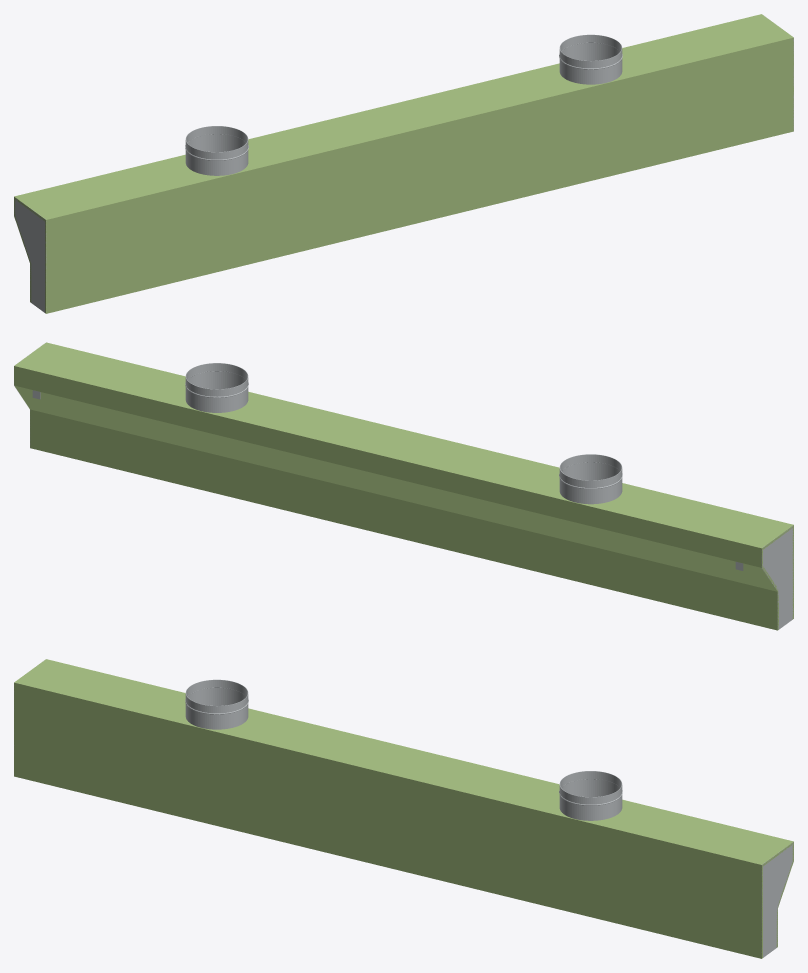
The model's file is edl-plenum-trapezoidale-2000-superiori.glb.
The picture shows the model from 3 angles, top to bottom: view 1: azimuth 30°, elevation 25°; view 2: azimuth 150°, elevation 25°; view 3: azimuth 330°, elevation 25°; orthographic projection.
Visible parts, largest first — view 1: Isolamento esterno, Stacco 2 Ø145, Stacco 1 Ø145, Testata sinistra; view 2: Isolamento esterno, Stacco 2 Ø145, Stacco 1 Ø145, Testata sinistra; view 3: Isolamento esterno, Stacco 1 Ø145, Stacco 2 Ø145, Testata destra.
Part boxes in pixels (bbox=[...]): Isolamento esterno: bbox=[14, 14, 793, 313]; Stacco 2 Ø145: bbox=[559, 34, 622, 84]; Stacco 1 Ø145: bbox=[185, 126, 248, 175]; Testata sinistra: bbox=[14, 197, 46, 312]; Isolamento esterno: bbox=[14, 342, 793, 630]; Stacco 2 Ø145: bbox=[185, 363, 248, 412]; Stacco 1 Ø145: bbox=[559, 454, 622, 504]; Testata sinistra: bbox=[761, 525, 793, 629]; Isolamento esterno: bbox=[14, 659, 793, 958]; Stacco 1 Ø145: bbox=[185, 679, 248, 729]; Stacco 2 Ø145: bbox=[559, 771, 622, 820]; Testata destra: bbox=[761, 842, 793, 957].
Bounding box in the file's own units: 2 × 0.3 × 0.149.
